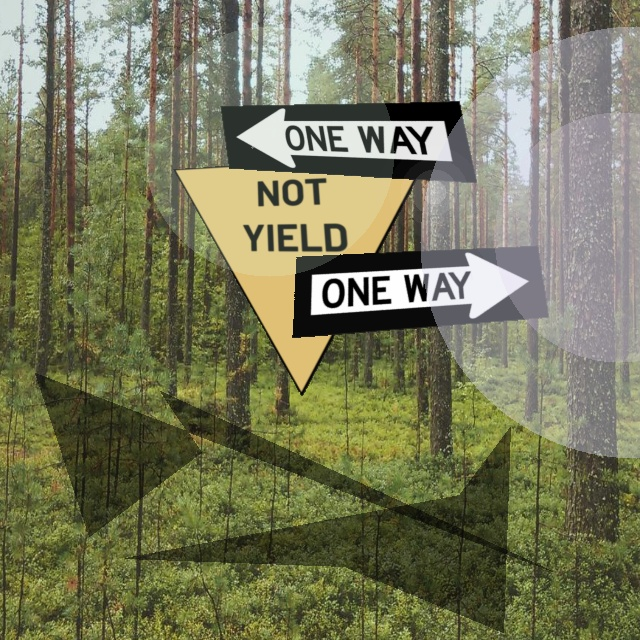NOT_YIELD: (173, 153, 430, 396)
ONE_WAY_ left: (220, 101, 477, 183)
ONE_WAY_ right: (292, 245, 549, 338)
